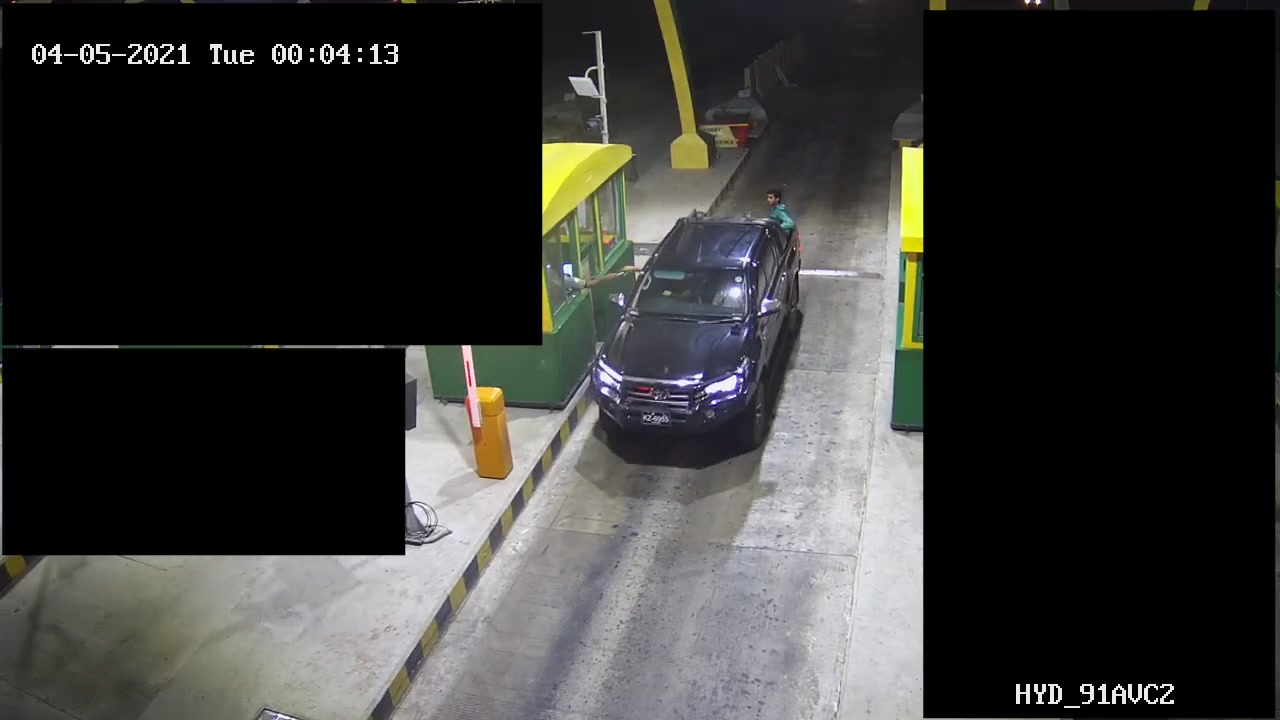F1: (583, 175, 826, 447)
